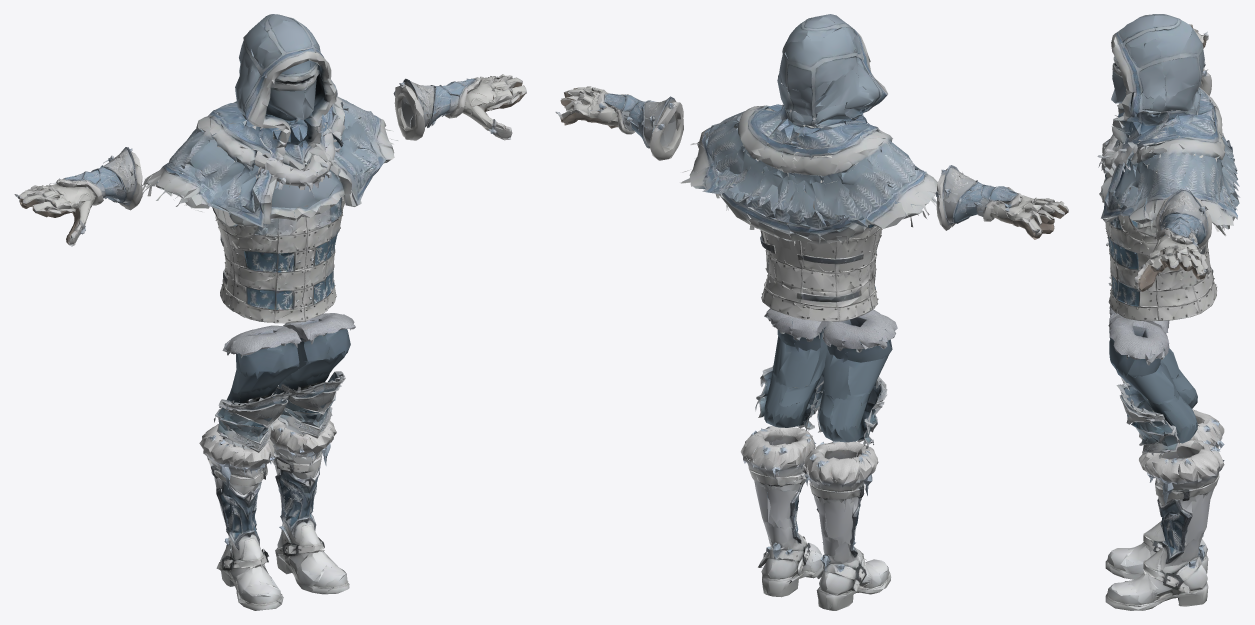
The model's file is ai_light_glacial.glb.
3 renders of one model, left to right at view 1: azimuth 30°, elevation 25°; view 2: azimuth 150°, elevation 25°; view 3: azimuth 270°, elevation 25°, orthographic.
Parts seen in each view (by area): view 1: hood, feet, chest, legs, gloves; view 2: hood, feet, legs, gloves, chest; view 3: hood, feet, legs, chest, gloves.
Boxes of the visible parts, box(x1,y1,x2,y2) form: hood: box(142, 14, 398, 229); feet: box(199, 419, 349, 610); chest: box(200, 118, 357, 323); legs: box(214, 313, 355, 452); gloves: box(14, 74, 526, 246); hood: box(680, 14, 937, 246); feet: box(740, 425, 891, 610); legs: box(755, 308, 897, 448); gloves: box(555, 86, 1068, 239); chest: box(733, 109, 882, 321); hood: box(1099, 14, 1239, 235); feet: box(1105, 409, 1224, 610); legs: box(1108, 305, 1197, 458); chest: box(1097, 110, 1218, 321); gloves: box(1134, 24, 1211, 291).
Bounding box in the file's own units: 1.8 × 1.95 × 0.4436.
5 materials, 5 textured.
